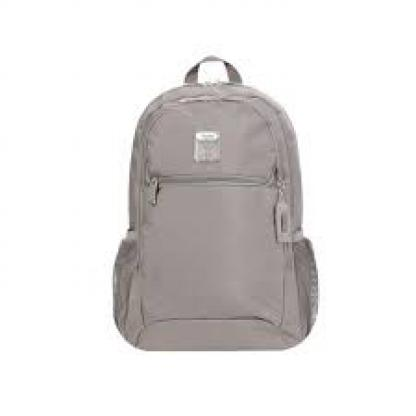morral: (96, 54, 344, 358)
